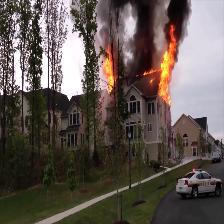fire: (156, 41, 176, 101), (104, 53, 115, 88)
smoke: (132, 0, 152, 76), (171, 2, 188, 38)
